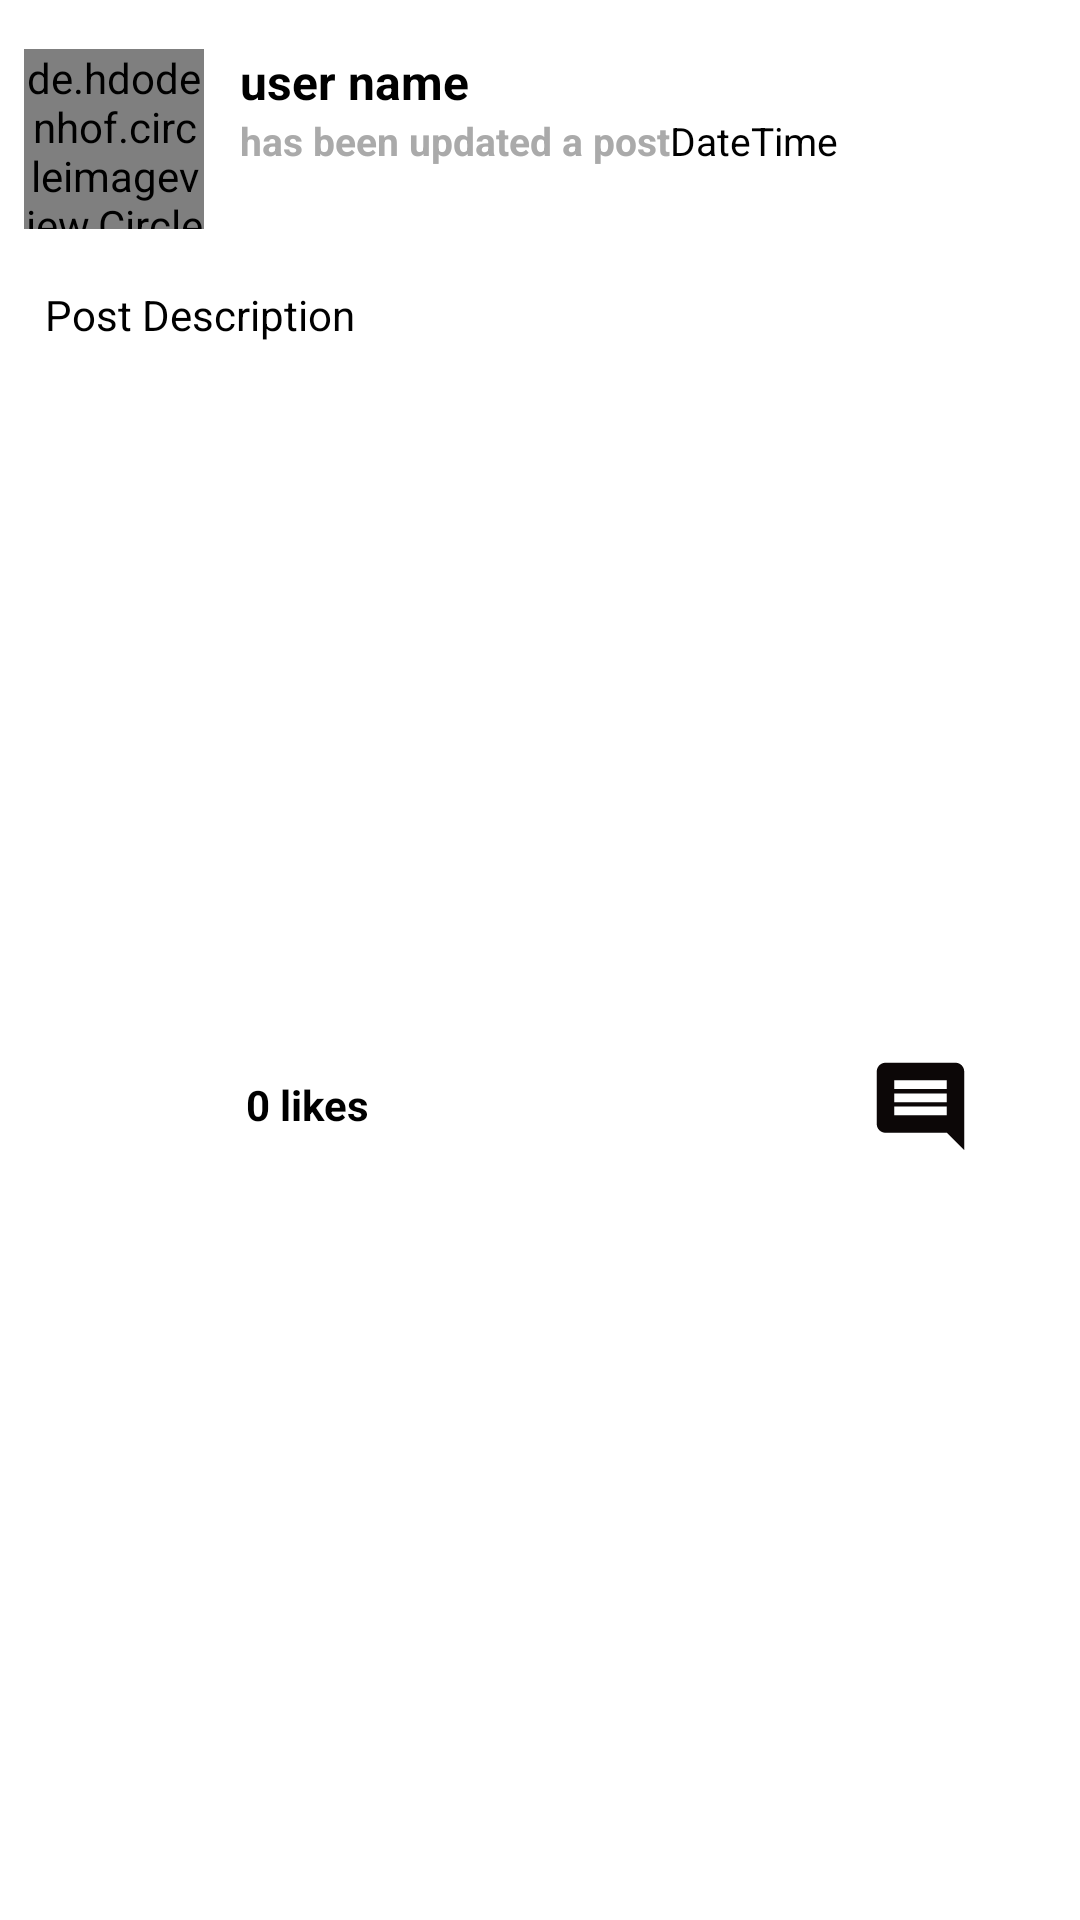

Icon bounding boxes for this 1080px x 1920px phone screenshot, format (x1, y1, x2, y2):
Comment Button: (876, 1062, 965, 1150)
